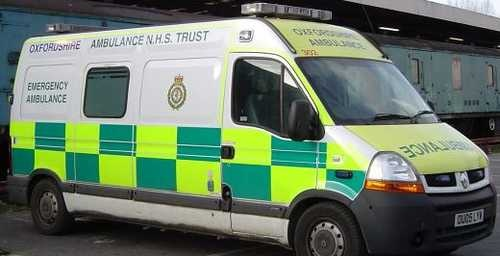Ambulance: (15, 19, 480, 256)
